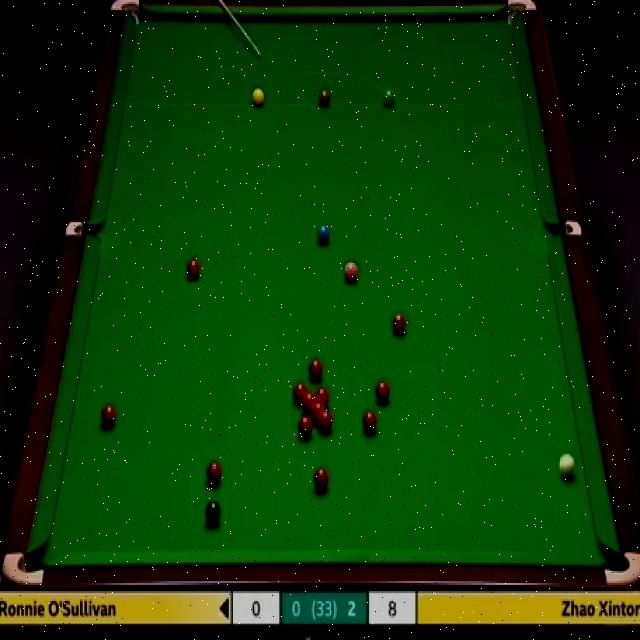black-ball: (205, 501, 222, 529)
blue-ball: (316, 222, 331, 246)
brown-ball: (318, 86, 331, 108)
green-ball: (382, 90, 396, 109)
pink-ball: (344, 260, 358, 282)
red-ball: (361, 409, 379, 437), (374, 378, 392, 406), (391, 312, 407, 340), (101, 402, 117, 428), (313, 466, 329, 492), (206, 461, 223, 485), (308, 358, 323, 384), (298, 415, 312, 440), (292, 381, 306, 405), (318, 410, 332, 433), (186, 258, 200, 280), (302, 392, 316, 412), (316, 387, 329, 408), (312, 402, 325, 421)
white-ball: (558, 451, 578, 483)
yellow-ball: (252, 88, 264, 109)
